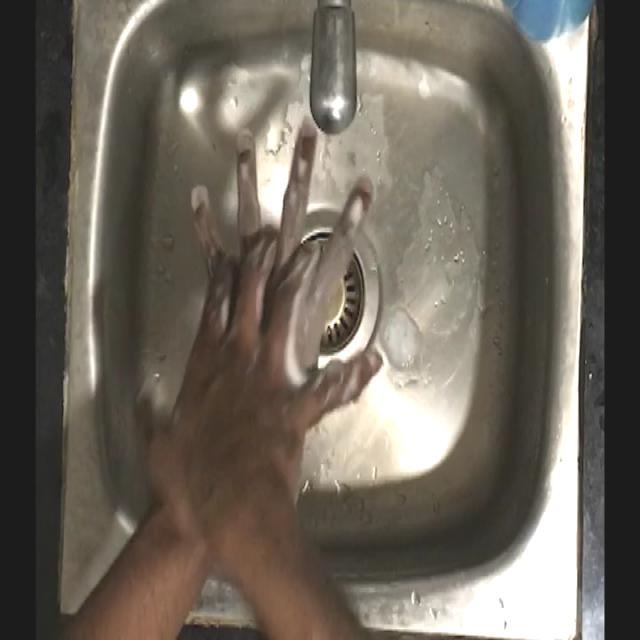step_2: (180, 110, 387, 435)
